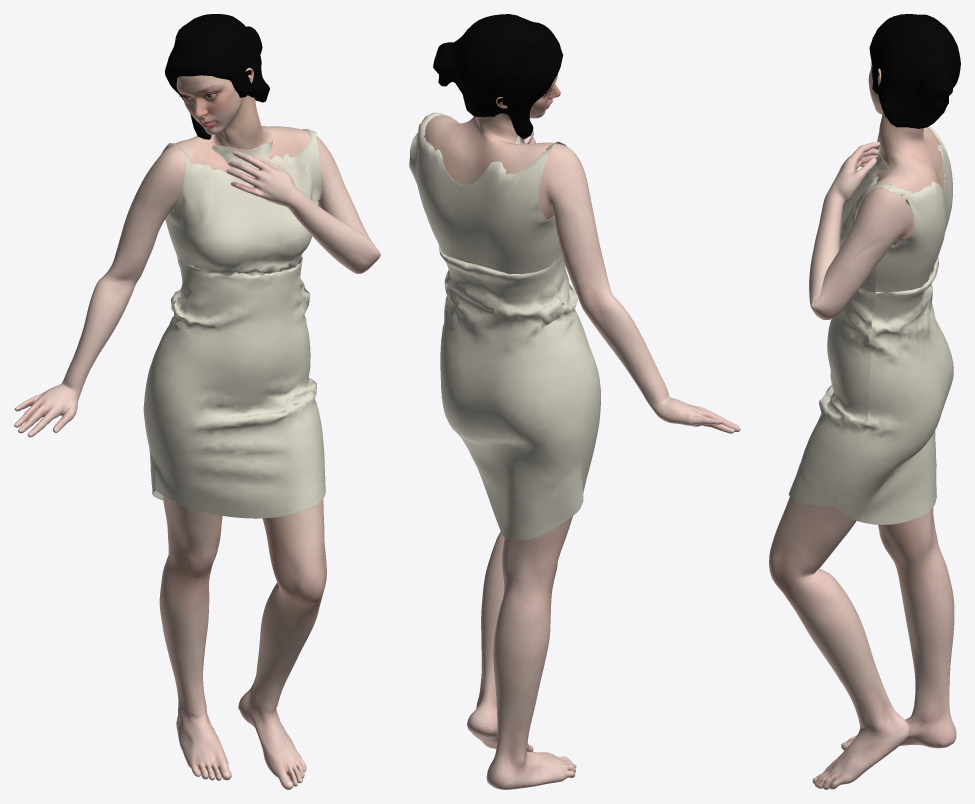
The model's file is Dramatic.obj.
3 renders of one model, left to right at view 1: azimuth 30°, elevation 25°; view 2: azimuth 150°, elevation 25°; view 3: azimuth 270°, elevation 25°, orthographic. The views are drawn at different scales.
Size of the model in its own units: 813 by 1767 by 408.
